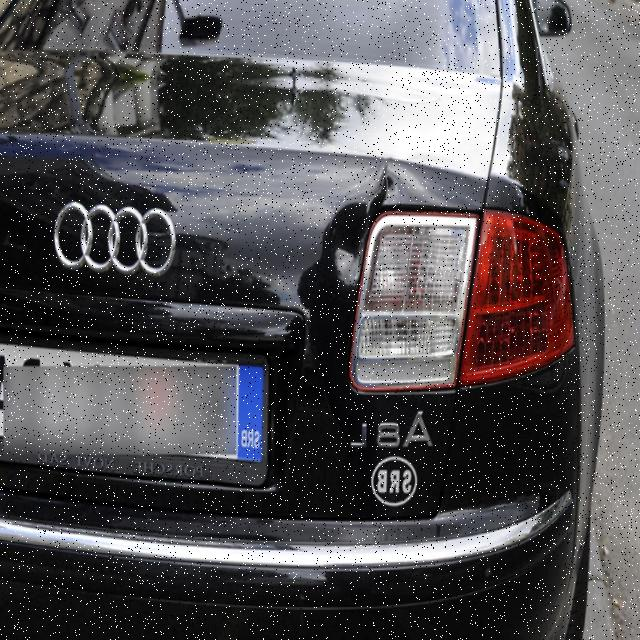damage: (321, 155, 396, 290)
